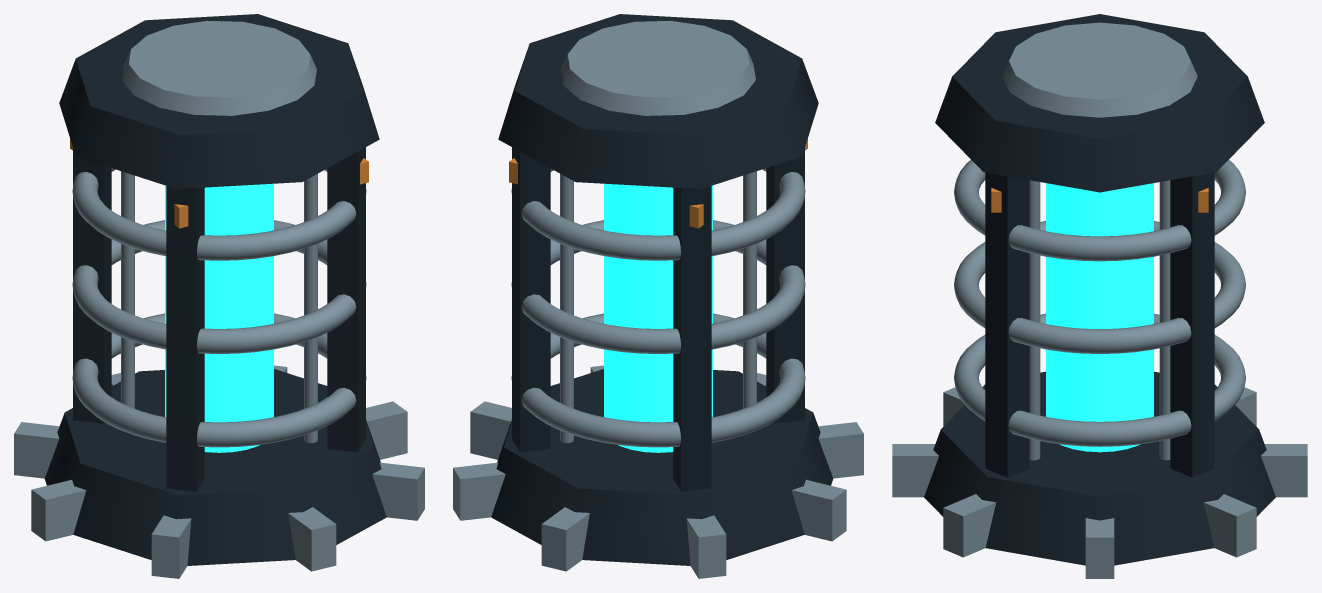
File: reactor-core.glb
3 views of the same model, side by side, from view 1: azimuth 30°, elevation 25°; view 2: azimuth 150°, elevation 25°; view 3: azimuth 270°, elevation 25° (orthographic).
Parts seen in each view (by area): view 1: SciFi_Reactor_Core; view 2: SciFi_Reactor_Core; view 3: SciFi_Reactor_Core.
Part boxes in pixels (<box>): SciFi_Reactor_Core: <box>14,14,424,578</box>; SciFi_Reactor_Core: <box>453,14,863,578</box>; SciFi_Reactor_Core: <box>892,14,1307,578</box>.
Bounding box in the file's own units: 7.3 × 8.35 × 7.3.
